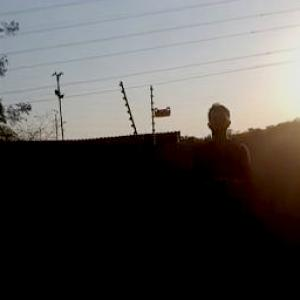follow: (185, 96, 257, 299)
